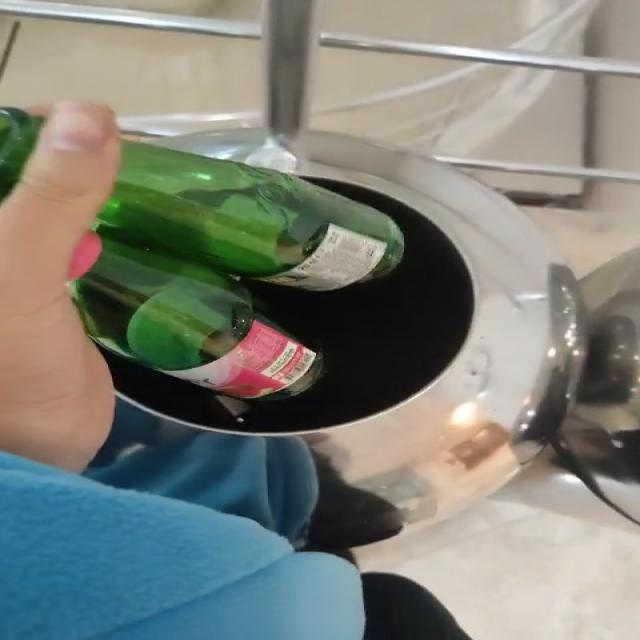glass: (73, 141, 404, 399)
